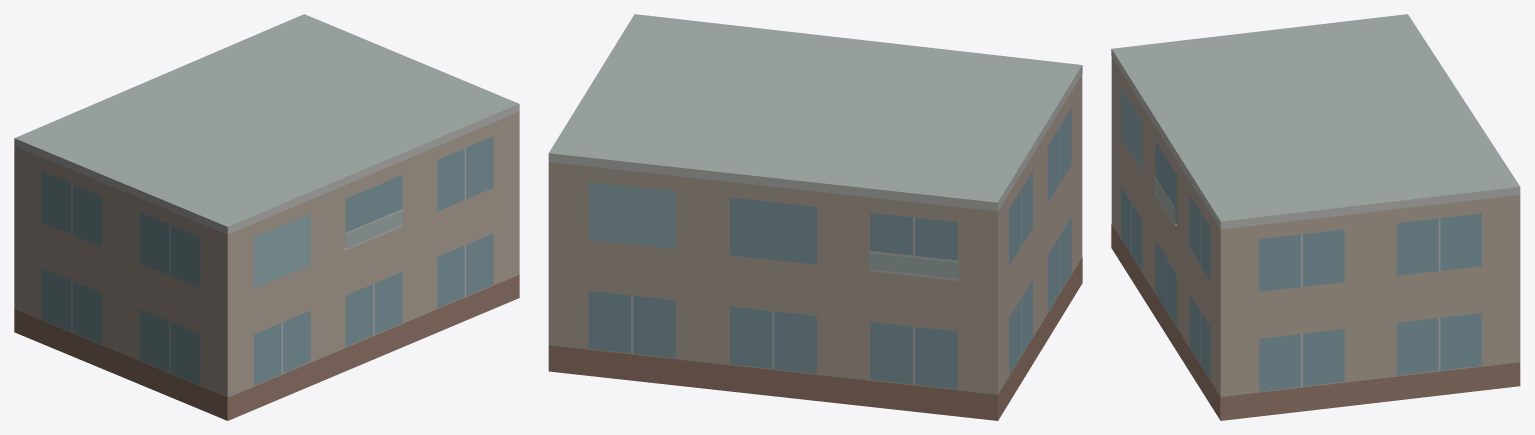
The model's file is survey-upis-32717886.glb.
3 renders of one model, left to right at view 1: azimuth 30°, elevation 25°; view 2: azimuth 150°, elevation 25°; view 3: azimuth 270°, elevation 25°, orthographic. The views are drawn at different scales.
Parts seen in each view (by area): view 1: survey-upis-32717886.tmp; view 2: survey-upis-32717886.tmp; view 3: survey-upis-32717886.tmp.
Part boxes in pixels (x1=…): survey-upis-32717886.tmp: x1=14, y1=14, x2=519, y2=420; survey-upis-32717886.tmp: x1=548, y1=14, x2=1082, y2=420; survey-upis-32717886.tmp: x1=1111, y1=14, x2=1520, y2=420.
Bounding box in the file's own units: 13.64 × 6.1 × 11.35.
